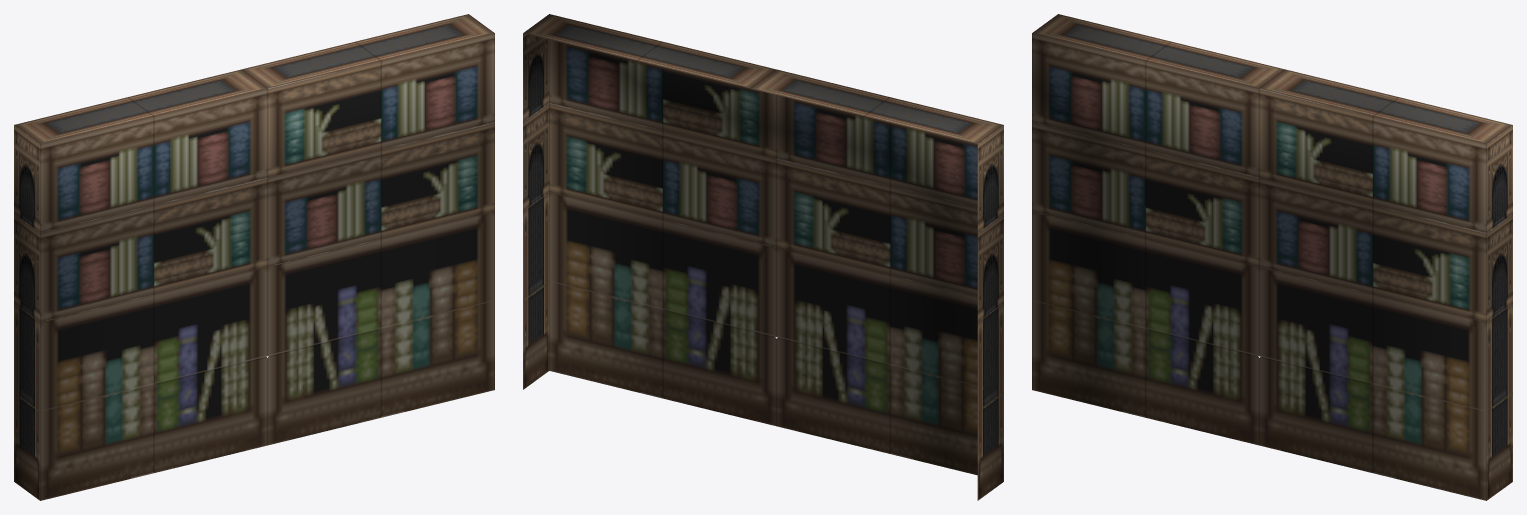
3 views of the same model, side by side, from view 1: azimuth 30°, elevation 25°; view 2: azimuth 150°, elevation 25°; view 3: azimuth 330°, elevation 25° (orthographic).
Parts seen in each view (by area): view 1: T1L7M004_1; view 2: T1L7M004_1; view 3: T1L7M004_1.
Part boxes in pixels (<box>): T1L7M004_1: <box>14,14,494,500</box>; T1L7M004_1: <box>523,14,1003,500</box>; T1L7M004_1: <box>1032,14,1512,500</box>.
Bounding box in the file's own units: 4 × 3 × 0.3994.
